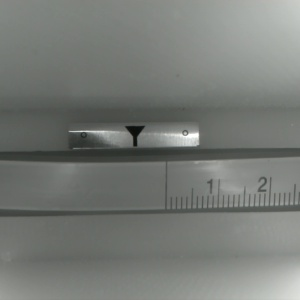1: (207, 177, 213, 193)
2: (257, 177, 267, 192)
finger: (124, 126, 145, 145)
